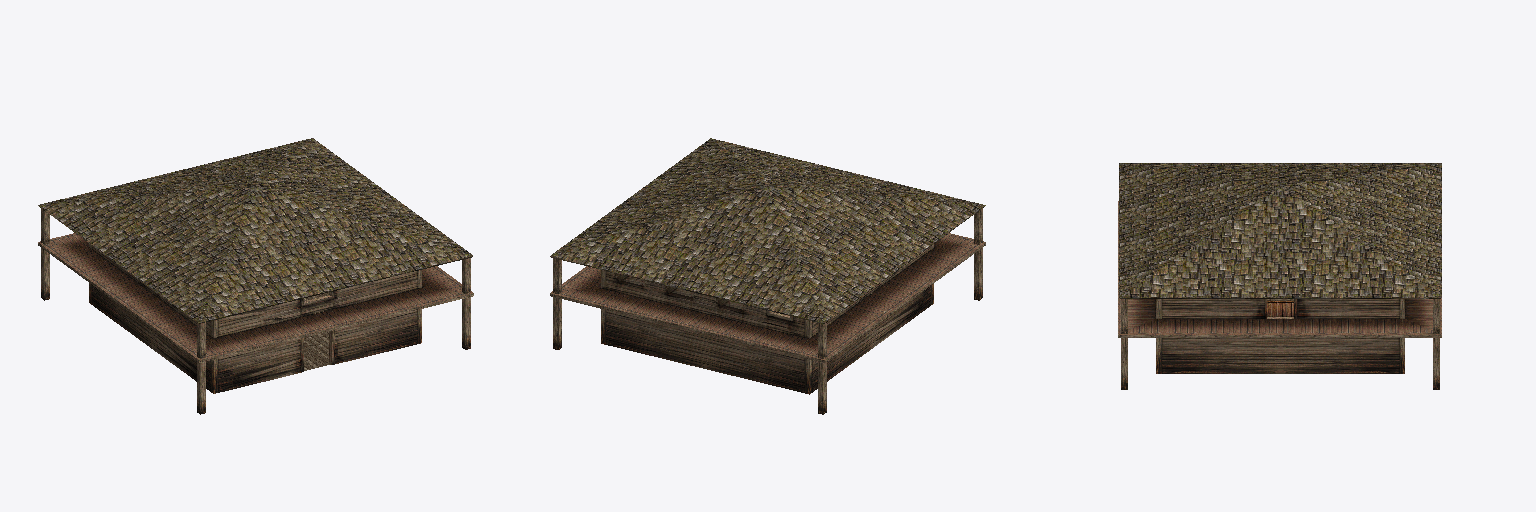
The picture shows the model from 3 angles: view 1: azimuth 30°, elevation 25°; view 2: azimuth 150°, elevation 25°; view 3: azimuth 270°, elevation 25°; orthographic projection.
Parts seen in each view (by area): view 1: SSaloonbody00-00.SSaloonbody00-00_SSaloonbody00-00, Plane; view 2: SSaloonbody00-00.SSaloonbody00-00_SSaloonbody00-00; view 3: SSaloonbody00-00.SSaloonbody00-00_SSaloonbody00-00.
Boxes of the visible parts, x1=… form: SSaloonbody00-00.SSaloonbody00-00_SSaloonbody00-00: x1=38, y1=138, x2=473, y2=414; Plane: x1=304, y1=292, x2=329, y2=370; SSaloonbody00-00.SSaloonbody00-00_SSaloonbody00-00: x1=550, y1=138, x2=985, y2=414; SSaloonbody00-00.SSaloonbody00-00_SSaloonbody00-00: x1=1118, y1=163, x2=1441, y2=389.
Bounding box in the file's own units: 1.97 × 0.9333 × 2.
Materials: 39 (39 with a texture image).